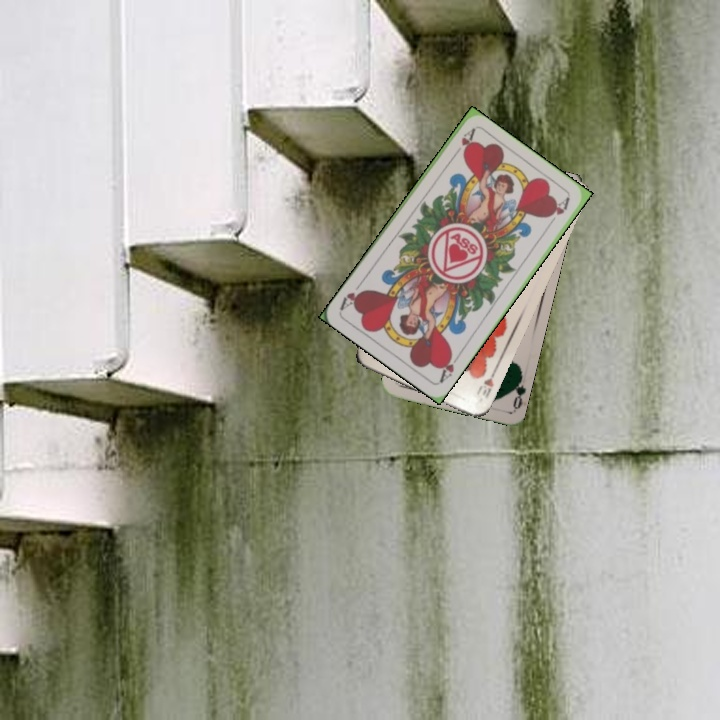GO: (506, 370, 527, 411)
H10: (472, 365, 499, 401)
HA: (435, 349, 464, 385), (448, 126, 477, 161)
